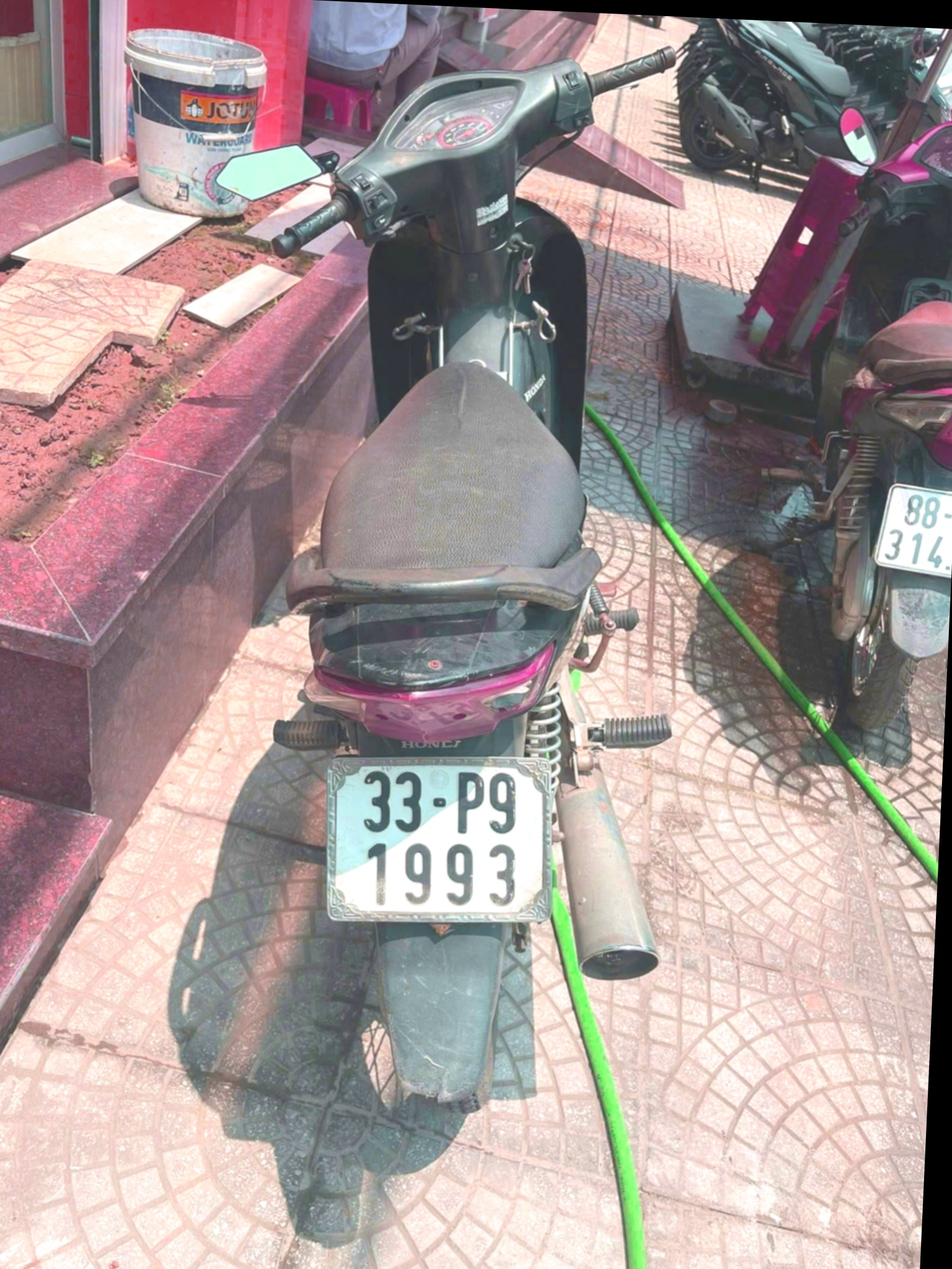Bien-so: (326, 751, 561, 935), (873, 478, 952, 578)
